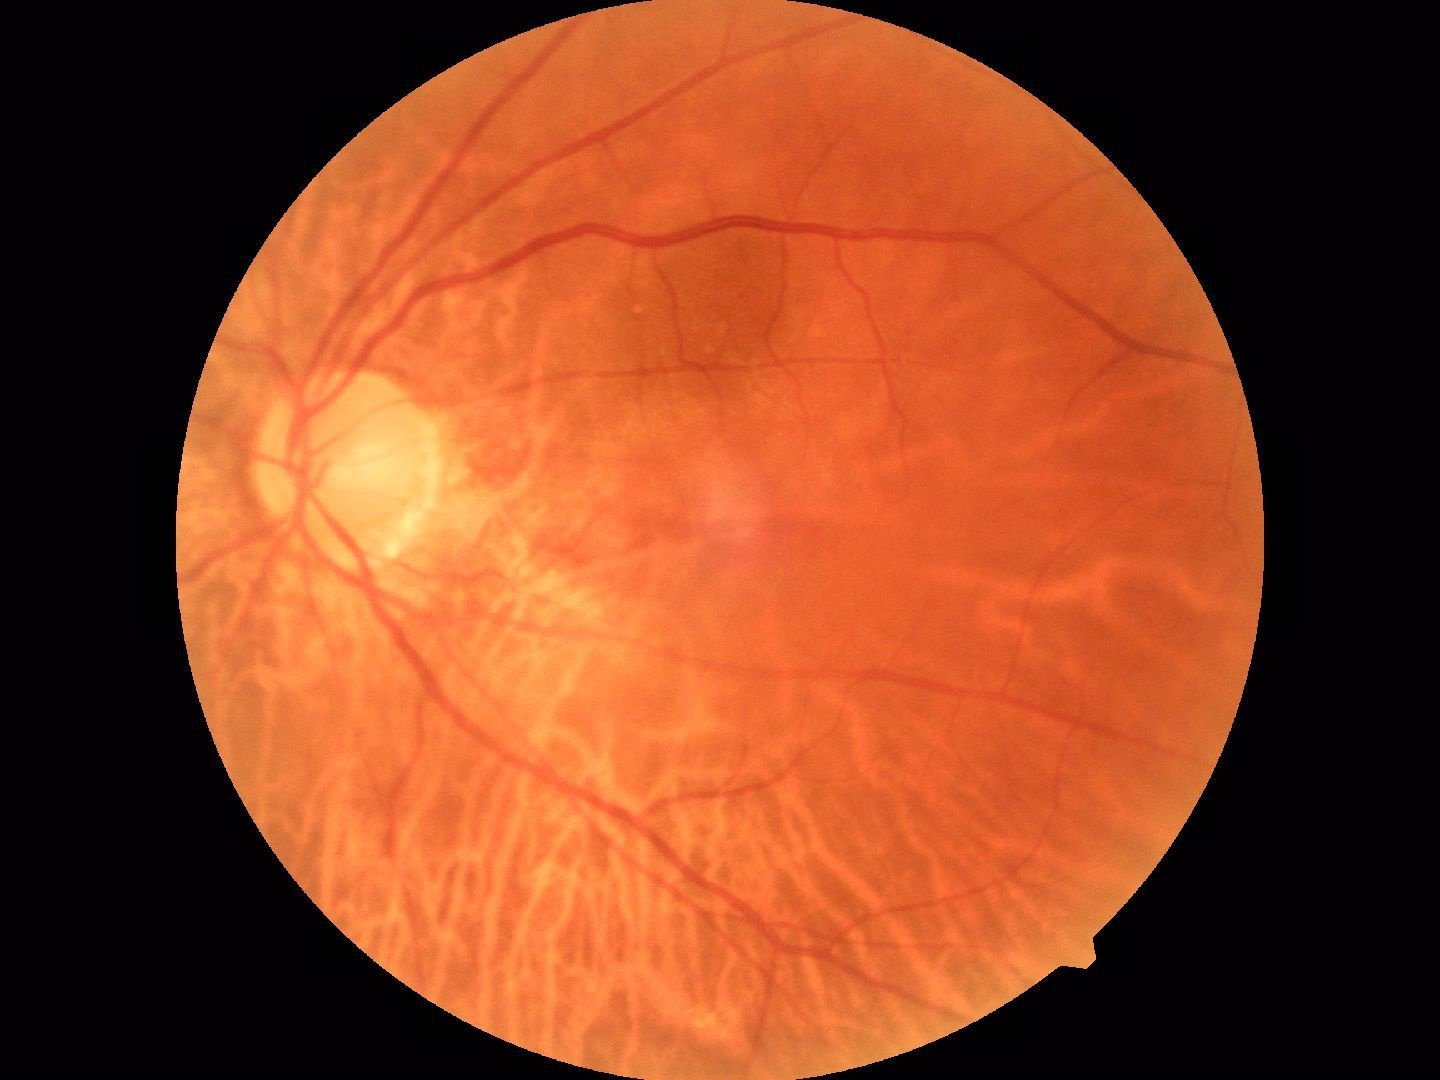Arterioles: (675, 777, 1044, 992)
Hemorrhages: (625, 242, 822, 386)
Optic-Disc: (227, 349, 468, 579)
Venules: (341, 188, 581, 313)
